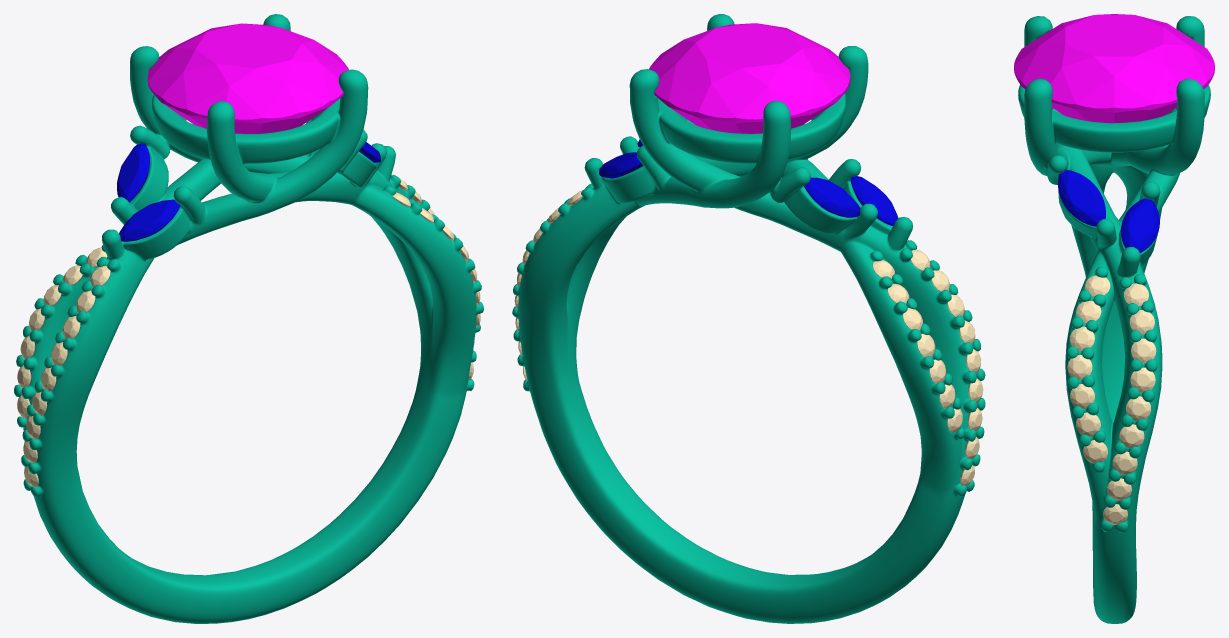
The model's file is BE104B_RD_200ct_RENDER.glb.
The picture shows the model from 3 angles, left to right: view 1: azimuth 30°, elevation 25°; view 2: azimuth 150°, elevation 25°; view 3: azimuth 270°, elevation 25°; orthographic projection.
Parts seen in each view (by area): view 1: Metal 01, CS_Diamond_Round, Diamond_Marquise_side.003, Diamond_Marquise_side.002; view 2: Metal 01, CS_Diamond_Round, Diamond_Marquise_side.002, Diamond_Marquise_side.003, Diamond_Marquise_side.001; view 3: Metal 01, CS_Diamond_Round, Diamond_Marquise_side, Diamond_Marquise_side.001, Diamond_Round_Gem_SH.003, Diamond_Round_Gem_SH.004, Diamond_Round_Gem_SH.002, Diamond_Round_Gem_SH.005, Diamond_Round_Gem_SH.001, Diamond_Round_Gem_SH.010, Diamond_Round_Gem_SH.011, Diamond_Round_Gem_SH.009 (+8 smaller).
Boxes of the visible parts, x1=… form: Metal 01: x1=14, y1=14, x2=483, y2=623; CS_Diamond_Round: x1=147, y1=23, x2=348, y2=133; Diamond_Marquise_side.003: x1=119, y1=199, x2=180, y2=241; Diamond_Marquise_side.002: x1=117, y1=143, x2=149, y2=202; Metal 01: x1=512, y1=14, x2=985, y2=623; CS_Diamond_Round: x1=649, y1=23, x2=850, y2=133; Diamond_Marquise_side.002: x1=804, y1=177, x2=860, y2=217; Diamond_Marquise_side.003: x1=850, y1=176, x2=897, y2=225; Diamond_Marquise_side.001: x1=599, y1=152, x2=642, y2=178; Metal 01: x1=1018, y1=16, x2=1210, y2=623; CS_Diamond_Round: x1=1014, y1=14, x2=1214, y2=123; Diamond_Marquise_side: x1=1058, y1=169, x2=1105, y2=226; Diamond_Marquise_side.001: x1=1121, y1=198, x2=1159, y2=253; Diamond_Round_Gem_SH.003: x1=1131, y1=338, x2=1156, y2=363; Diamond_Round_Gem_SH.004: x1=1130, y1=367, x2=1155, y2=392; Diamond_Round_Gem_SH.002: x1=1067, y1=355, x2=1092, y2=379; Diamond_Round_Gem_SH.005: x1=1070, y1=384, x2=1094, y2=408; Diamond_Round_Gem_SH.001: x1=1070, y1=326, x2=1094, y2=350; Diamond_Round_Gem_SH.010: x1=1126, y1=396, x2=1150, y2=420; Diamond_Round_Gem_SH.011: x1=1119, y1=424, x2=1144, y2=448; Diamond_Round_Gem_SH.009: x1=1129, y1=310, x2=1154, y2=334.
Size of the model in its own units: 20.62 by 24.82 by 8.
